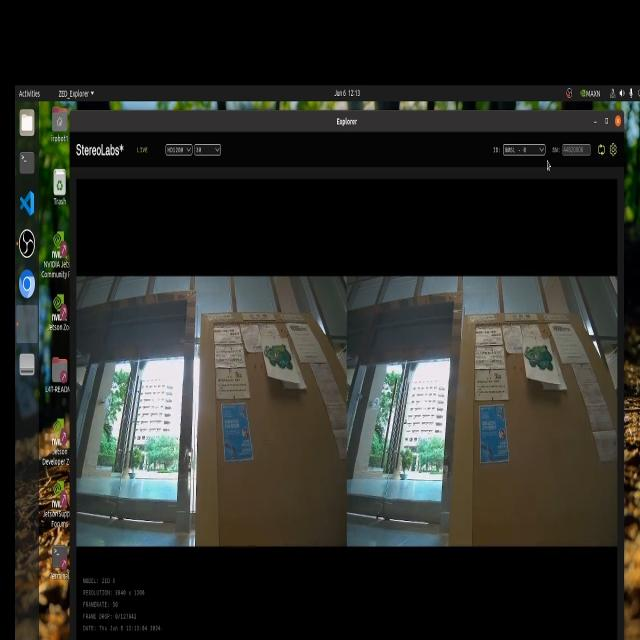green: (260, 344, 297, 381), (526, 348, 557, 377)
